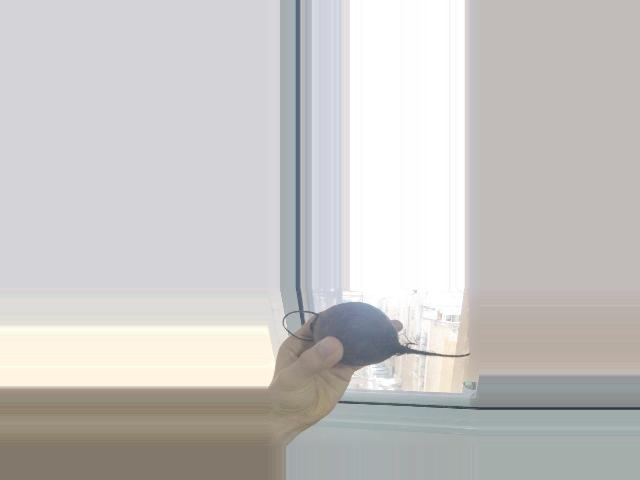beet: (283, 302, 471, 366)
